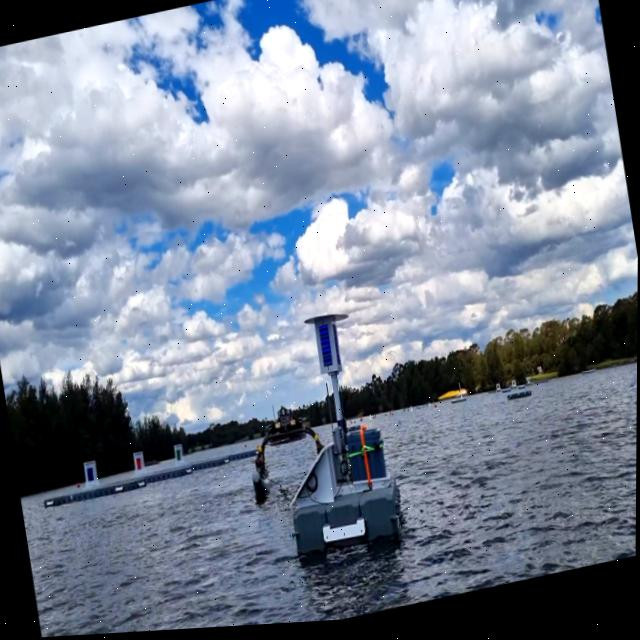led: (316, 326, 338, 377)
